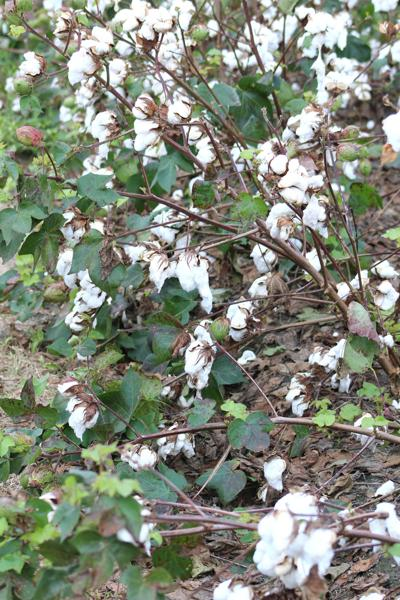damaged_cotton: (81, 329, 393, 600), (42, 1, 342, 209)
